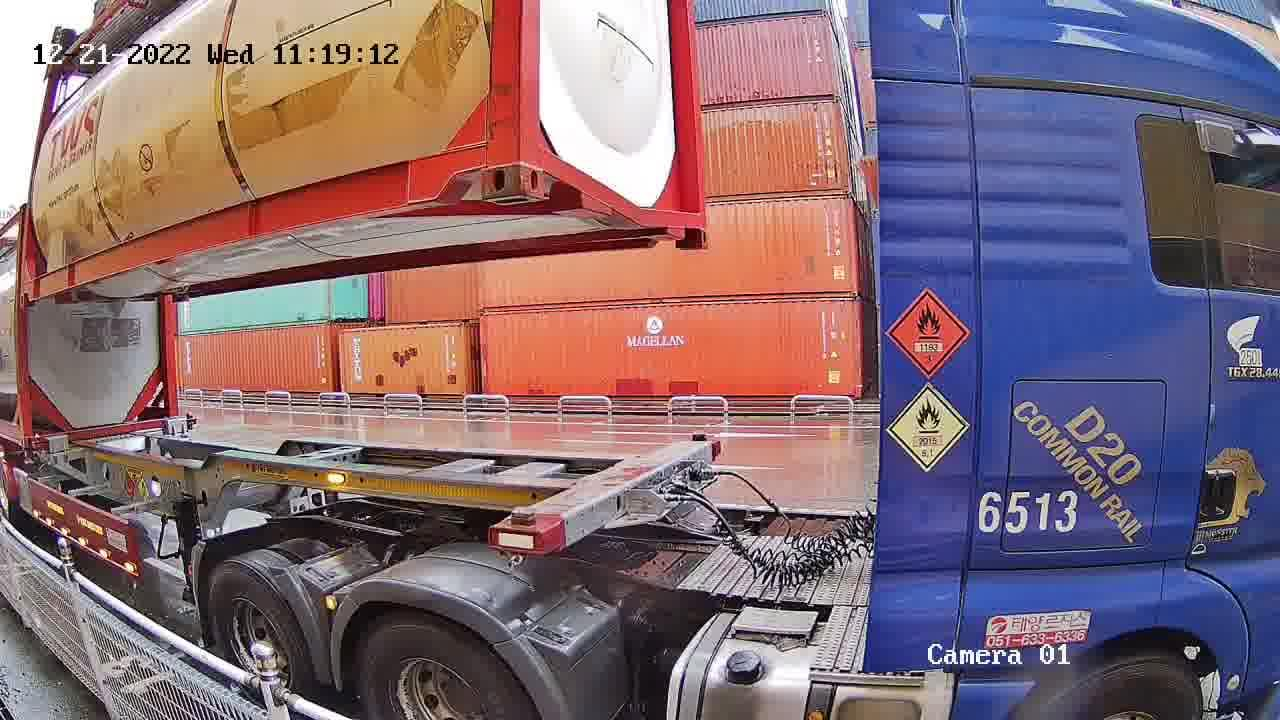Chassis: (492, 436, 721, 556)
Cone: (502, 502, 539, 568), (685, 430, 711, 444)
Hole_L: (518, 138, 568, 207)
Hole_R: (446, 134, 519, 199), (675, 201, 710, 251)
Tire: (353, 621, 530, 715), (207, 563, 309, 707)
